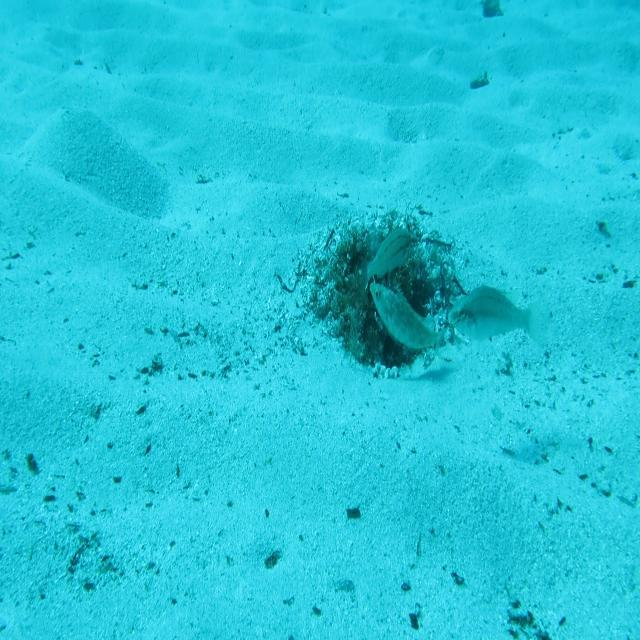BEND: (368, 281, 450, 355)
core_nest: (355, 240, 403, 287)
female: (448, 281, 548, 351), (361, 228, 419, 300)
nest: (300, 208, 472, 387)
vegetation: (478, 0, 509, 18), (468, 67, 489, 92), (264, 547, 282, 572), (346, 506, 361, 520)
